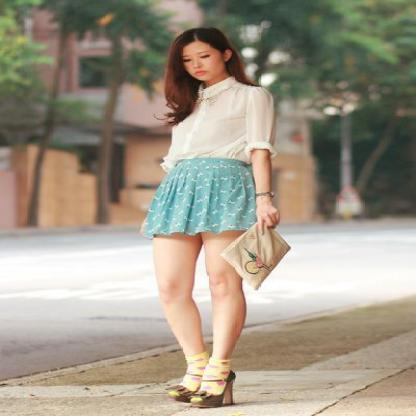bag: (219, 215, 286, 286)
shirt: (162, 78, 272, 171)
shoe: (173, 374, 241, 408)
skirt: (127, 156, 261, 244)
